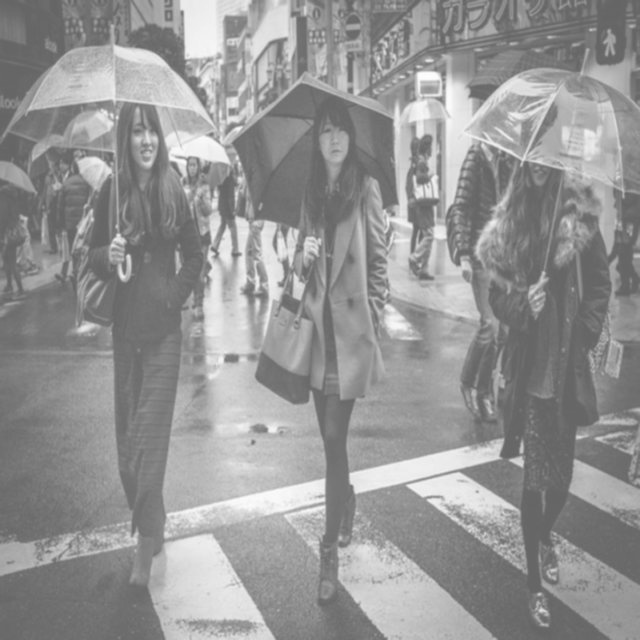pessoa: (251, 91, 393, 611), (475, 90, 612, 628), (74, 86, 208, 602), (444, 106, 512, 427), (604, 143, 640, 310), (179, 155, 214, 323), (406, 130, 439, 282), (34, 150, 70, 284), (54, 157, 92, 282), (164, 157, 189, 321), (237, 185, 270, 298), (483, 319, 517, 423), (0, 178, 27, 302), (208, 166, 244, 258), (404, 134, 426, 276), (270, 206, 296, 302), (379, 205, 397, 308), (16, 213, 34, 290), (218, 150, 243, 199), (81, 147, 116, 180), (200, 155, 218, 202), (436, 140, 446, 197), (70, 148, 82, 162)
